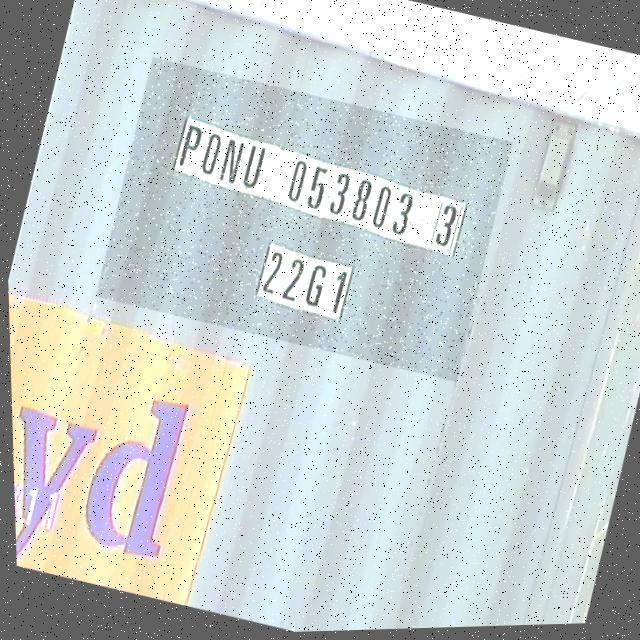container_number_h: (88, 50, 517, 392)
